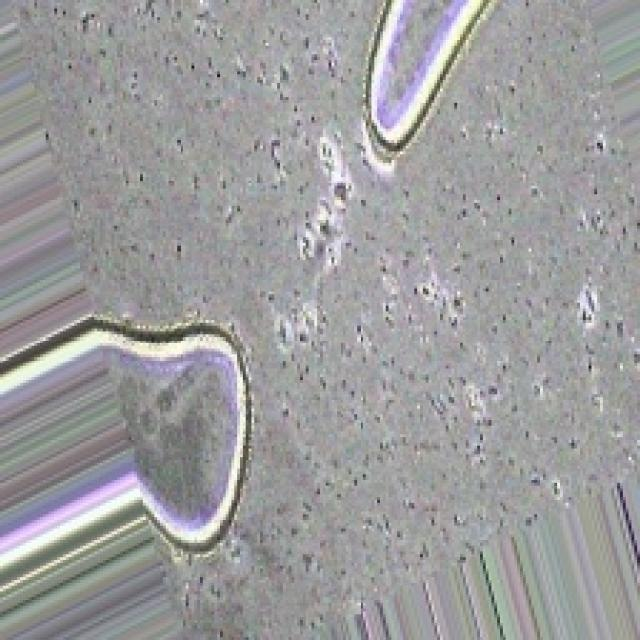Rod_bacteria: (0, 311, 251, 637)
